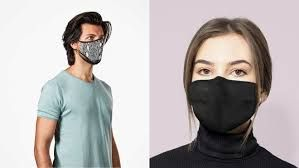with-mask: (181, 27, 269, 139), (63, 11, 115, 68)
